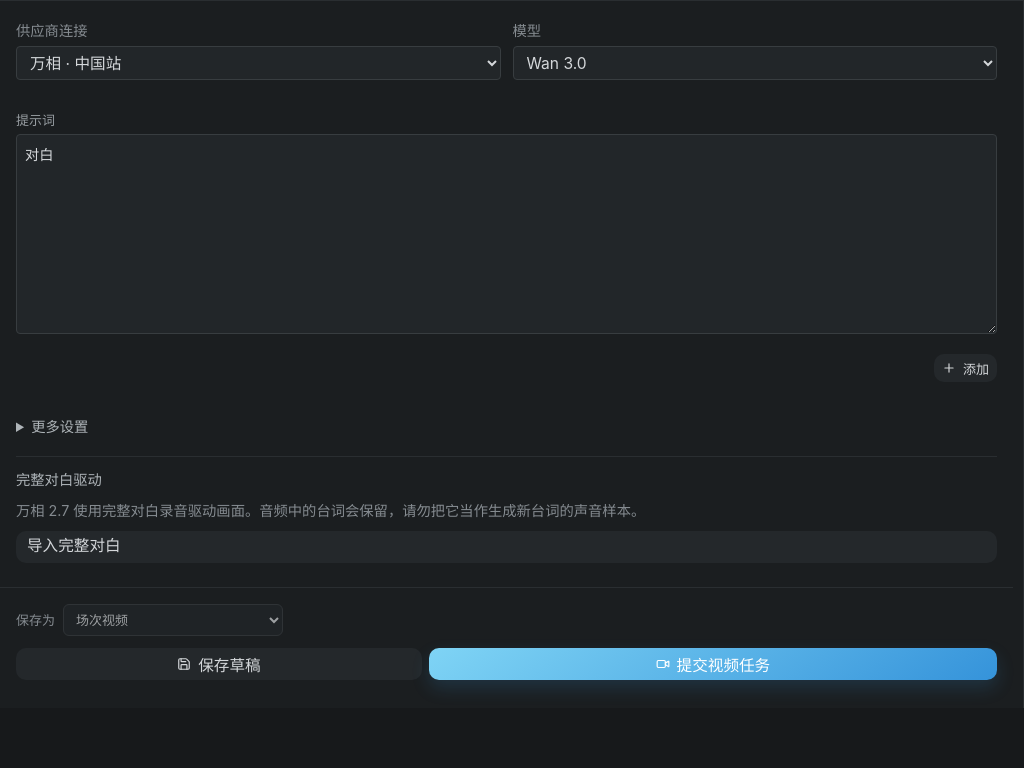
Test: scene production bindings › rejects voice samples on a dialogue driving model when no complete dialogue is bound
Expected: the button "导入完整对白" is shown, [16,531,997,563]
Click the button "提交视频任务": (713,664) [429,648,997,680]
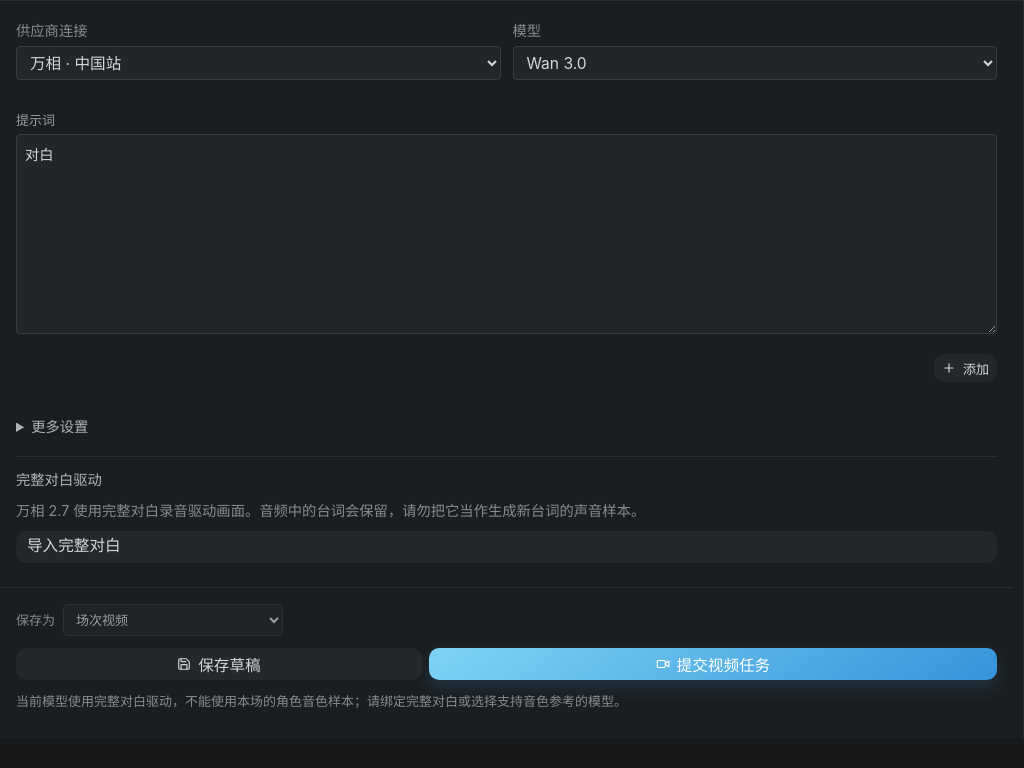
Now the text "当前模型使用完整对白驱动，不能使用本场的角色音色样本；请绑定完整对白或选择支持音色参考的模型。" is shown, box [16,693,627,709]
